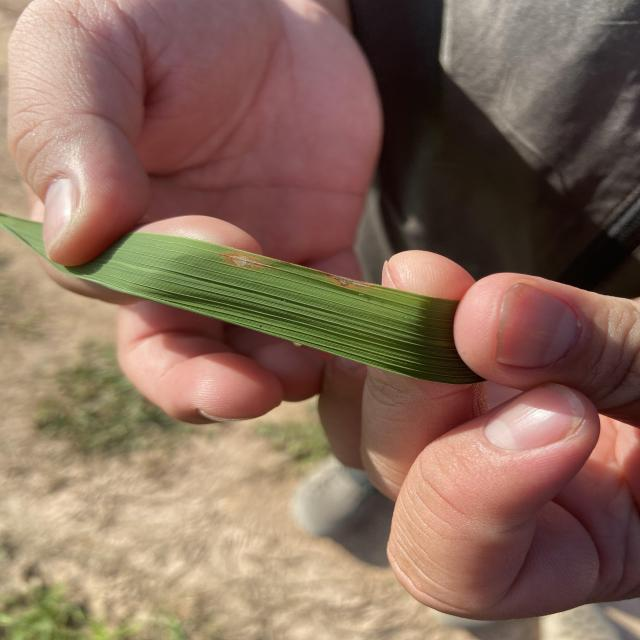Dao on: (324, 272, 368, 287), (223, 254, 269, 267)
